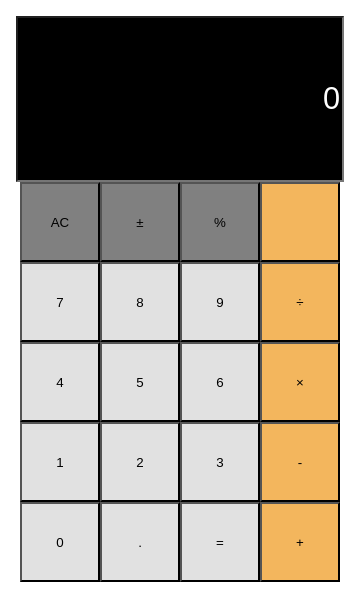
Scenario: General Calculator Test Functions › Check decimal
Click the button "2" at [140, 462], box x1=100 y1=422 x2=180 y2=502
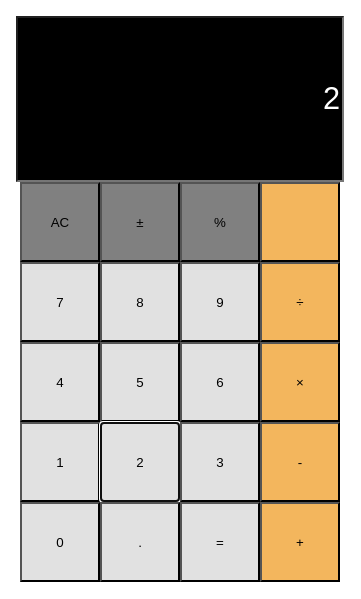
Click the button "." at [140, 542], box x1=100 y1=502 x2=180 y2=582
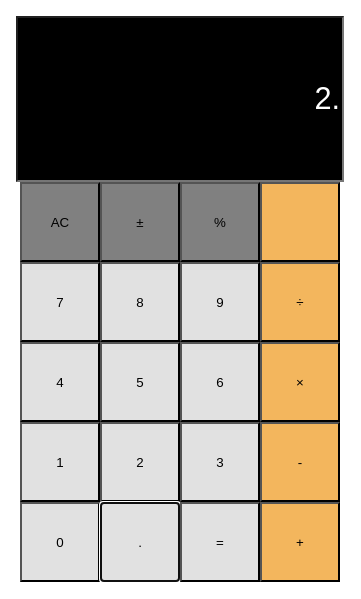
Click the button "2" at [140, 462], box x1=100 y1=422 x2=180 y2=502
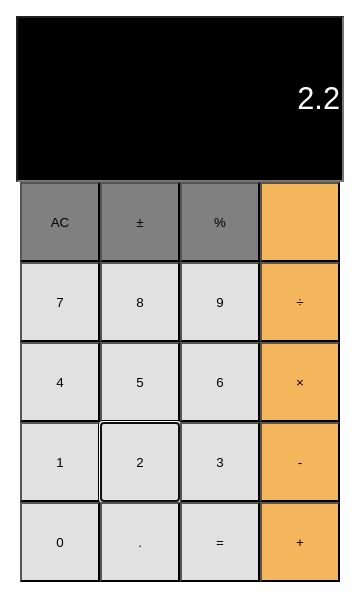
Expected: the field showing "0" holds "2.2", x1=16 y1=16 x2=344 y2=182
